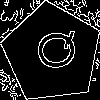Q: (27, 28, 79, 73)
